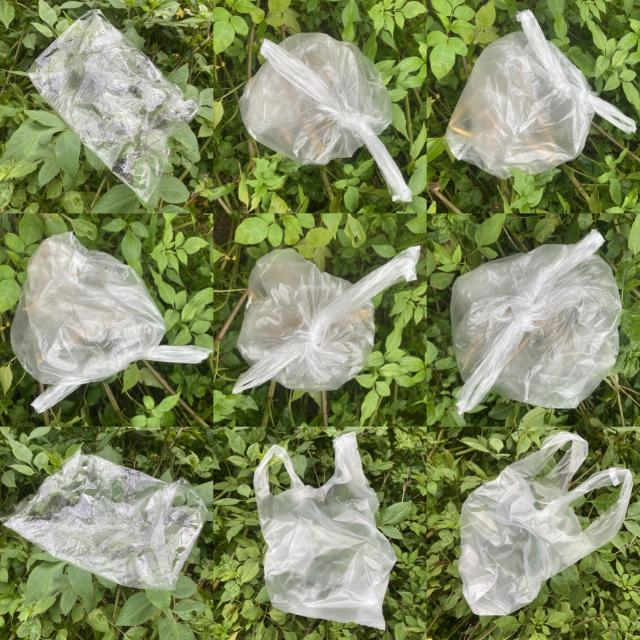Single-layer Plastic: (10, 232, 211, 412), (28, 10, 199, 207), (446, 10, 636, 179), (459, 432, 632, 615), (450, 230, 621, 411), (239, 32, 411, 201), (254, 433, 396, 629), (234, 246, 420, 393), (1, 455, 205, 589)
